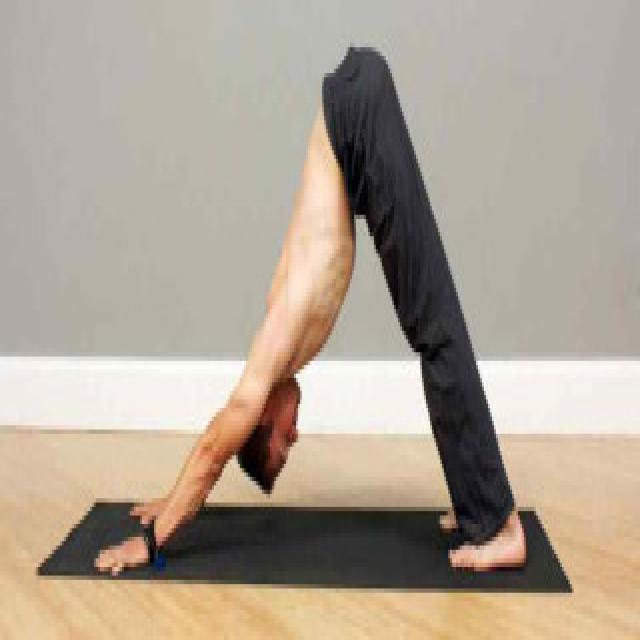yoga-pose downward: (93, 35, 525, 585)
